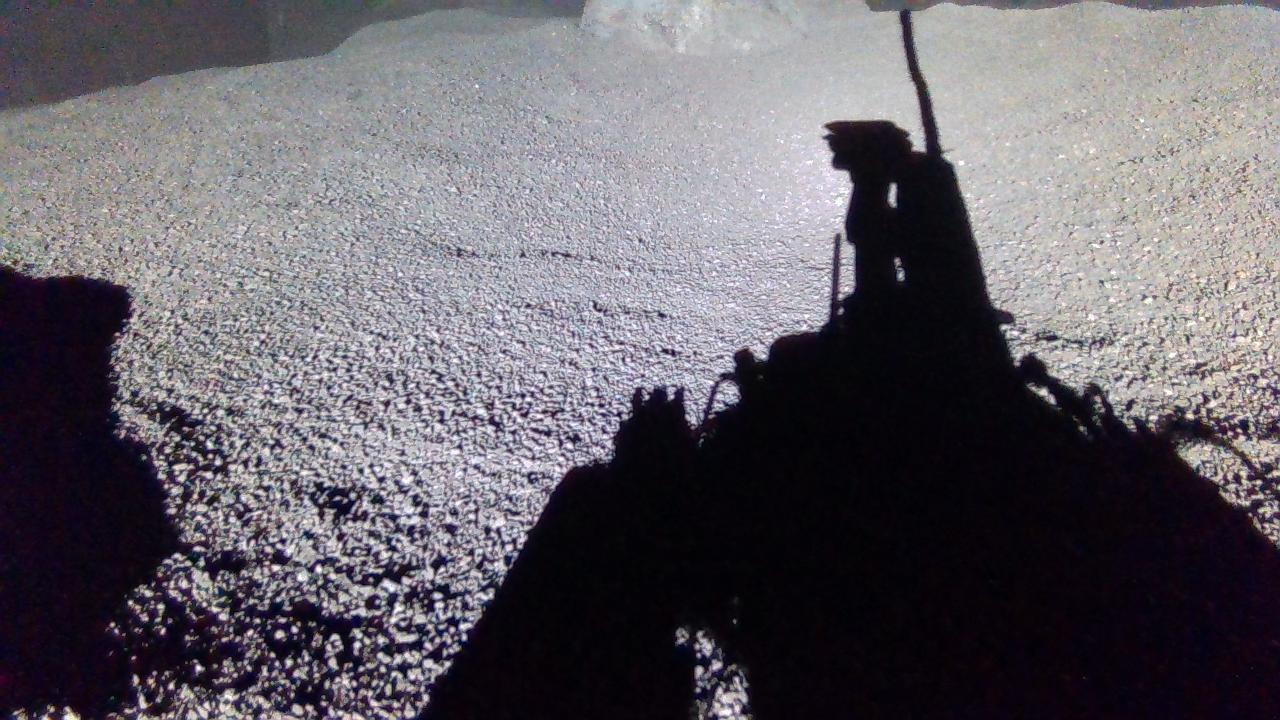rock: (581, 0, 808, 54)
